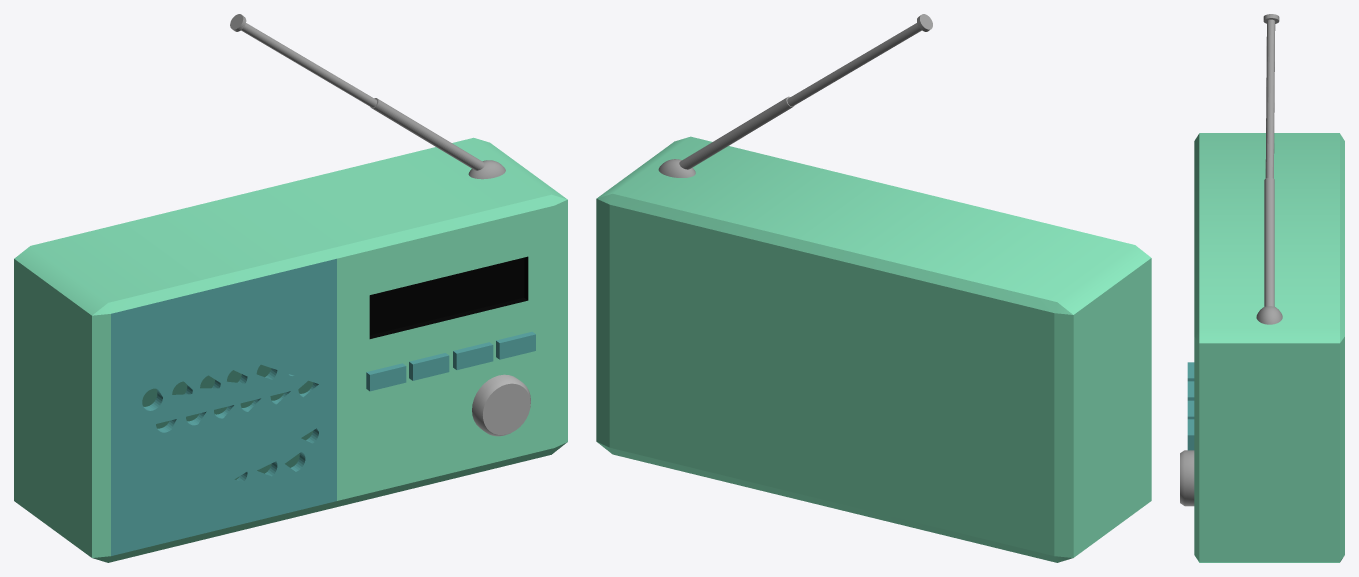
The model's file is RADYJKO.fbx.
3 renders of one model, left to right at view 1: azimuth 30°, elevation 25°; view 2: azimuth 150°, elevation 25°; view 3: azimuth 270°, elevation 25°, orthographic. The views are drawn at different scales.
Visible parts, largest first — view 1: Cylinder; view 2: Cylinder; view 3: Cylinder.
Part boxes in pixels (box(x1,y1,x2,y2)): Cylinder: box(14, 14, 567, 562); Cylinder: box(596, 14, 1151, 562); Cylinder: box(1180, 14, 1344, 562).
Bounding box in the file's own units: 383 × 367 × 127.
